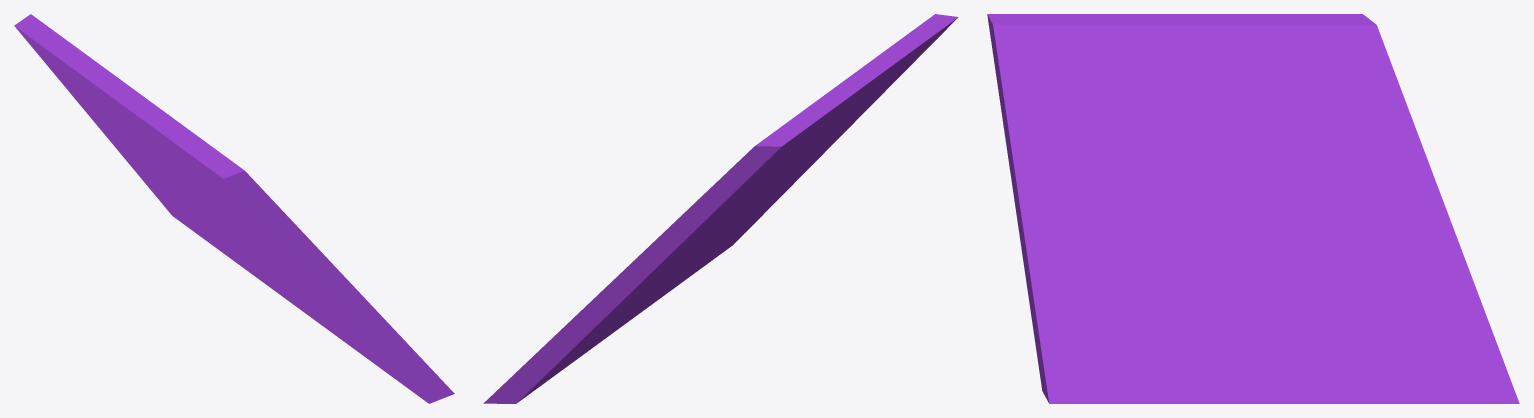
Rendered from Window_73_chunks.fbx.
The picture shows the model from 3 angles, left to right: view 1: azimuth 30°, elevation 25°; view 2: azimuth 150°, elevation 25°; view 3: azimuth 270°, elevation 25°; orthographic projection. The views are drawn at different scales.
Parts seen in each view (by area): view 1: Window_73_11, Window_73_13, Window_73_16, Window_73_9, Window_73_8, Window_73_34, Window_73_32, Window_73_4, Window_73_2, Window_73_6, Window_73_35, Window_73_18 (+10 smaller); view 2: Window_73_25, Window_73_27, Window_73_8, Window_73_28, Window_73_16, Window_73_34, Window_73_32, Window_73_4, Window_73_2, Window_73_6, Window_73_18, Window_73_35 (+6 smaller); view 3: Window_73_4, Window_73_1, Window_73_11, Window_73_3, Window_73_8, Window_73_5, Window_73_16, Window_73_7, Window_73_9, Window_73_25, Window_73_29, Window_73_22 (+21 smaller).
Boxes of the visible parts, box(x1,y1,x2,y2) form: Window_73_11: box(337, 279, 443, 393); Window_73_13: box(223, 182, 307, 255); Window_73_16: box(170, 121, 255, 193); Window_73_9: box(263, 237, 346, 302); Window_73_8: box(14, 14, 126, 135); Window_73_34: box(120, 85, 189, 169); Window_73_32: box(48, 50, 135, 125); Window_73_4: box(85, 99, 201, 211); Window_73_2: box(200, 203, 346, 328); Window_73_6: box(122, 123, 218, 214); Window_73_35: box(38, 43, 122, 120); Window_73_18: box(193, 206, 270, 269); Window_73_25: box(550, 261, 665, 356); Window_73_27: box(634, 174, 728, 275); Window_73_8: box(724, 120, 801, 209); Window_73_28: box(506, 325, 601, 403); Window_73_16: box(878, 14, 958, 88); Window_73_34: box(828, 50, 913, 125); Window_73_32: box(810, 81, 870, 131); Window_73_4: box(647, 206, 729, 288); Window_73_2: box(696, 206, 745, 260); Window_73_6: box(727, 158, 788, 217); Window_73_18: box(621, 241, 703, 313); Window_73_35: box(778, 98, 819, 163); Window_73_4: box(1227, 104, 1353, 287); Window_73_1: box(1117, 107, 1228, 285); Window_73_11: box(1017, 208, 1112, 384); Window_73_3: box(1194, 238, 1350, 373); Window_73_8: box(1264, 14, 1389, 139); Window_73_5: box(1333, 59, 1395, 260); Window_73_16: box(987, 14, 1135, 103); Window_73_7: box(1147, 70, 1274, 185); Window_73_9: box(1006, 138, 1123, 222); Window_73_25: box(1387, 185, 1484, 310); Window_73_29: box(1402, 308, 1519, 403); Window_73_22: box(1132, 333, 1253, 403).
Size of the model in its own units: 756 by 829 by 1463.
